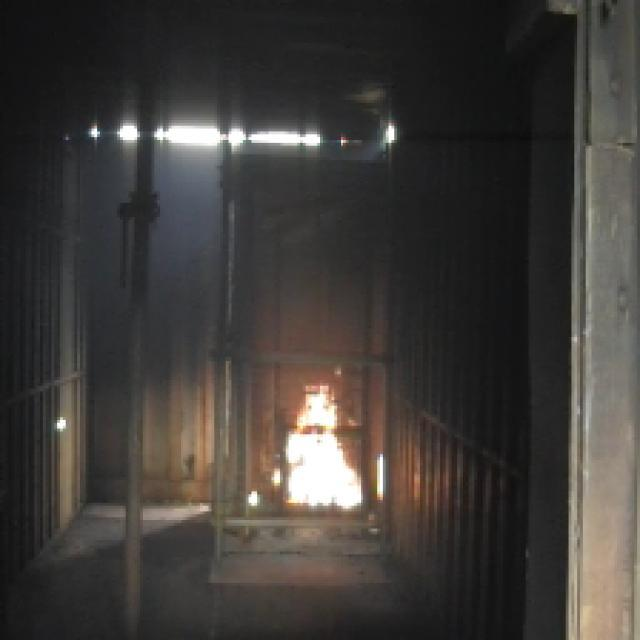Fire: (292, 386, 367, 512)
